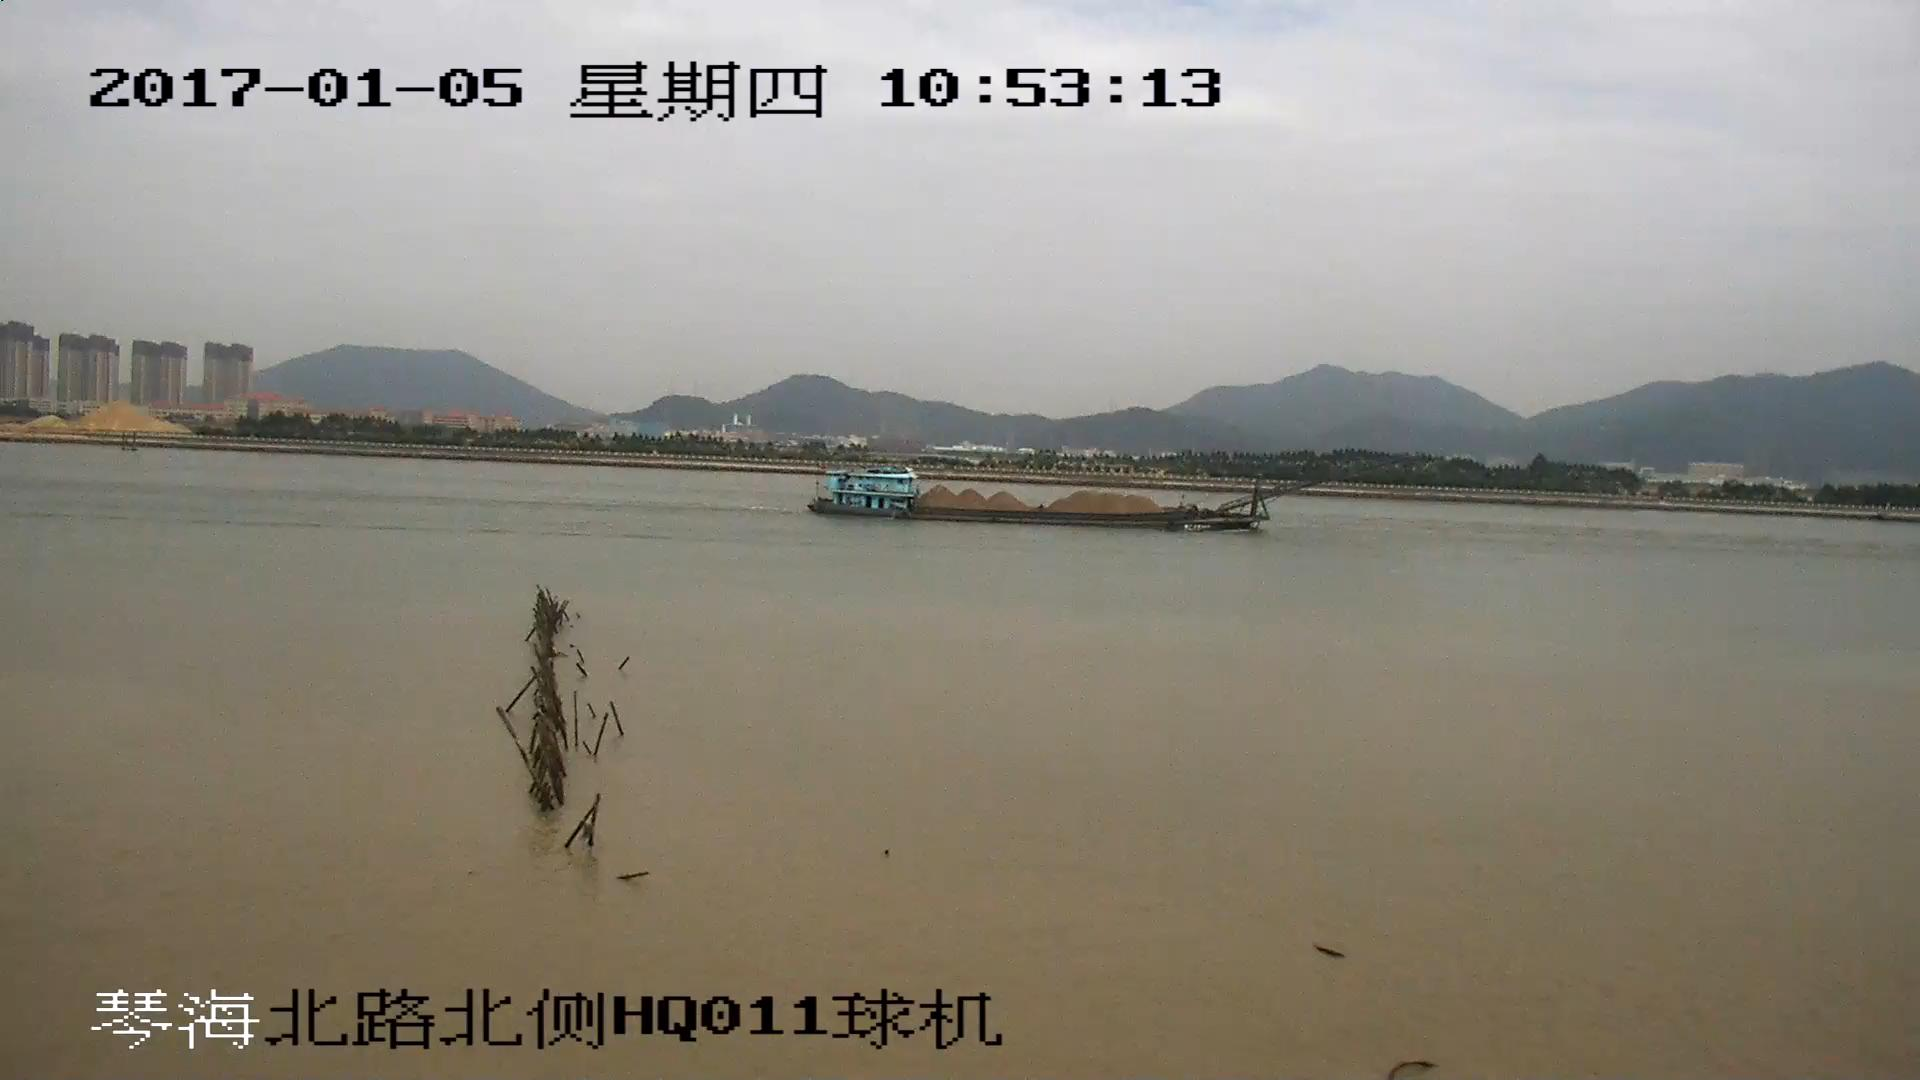ore carrier: (812, 442, 1392, 530)
